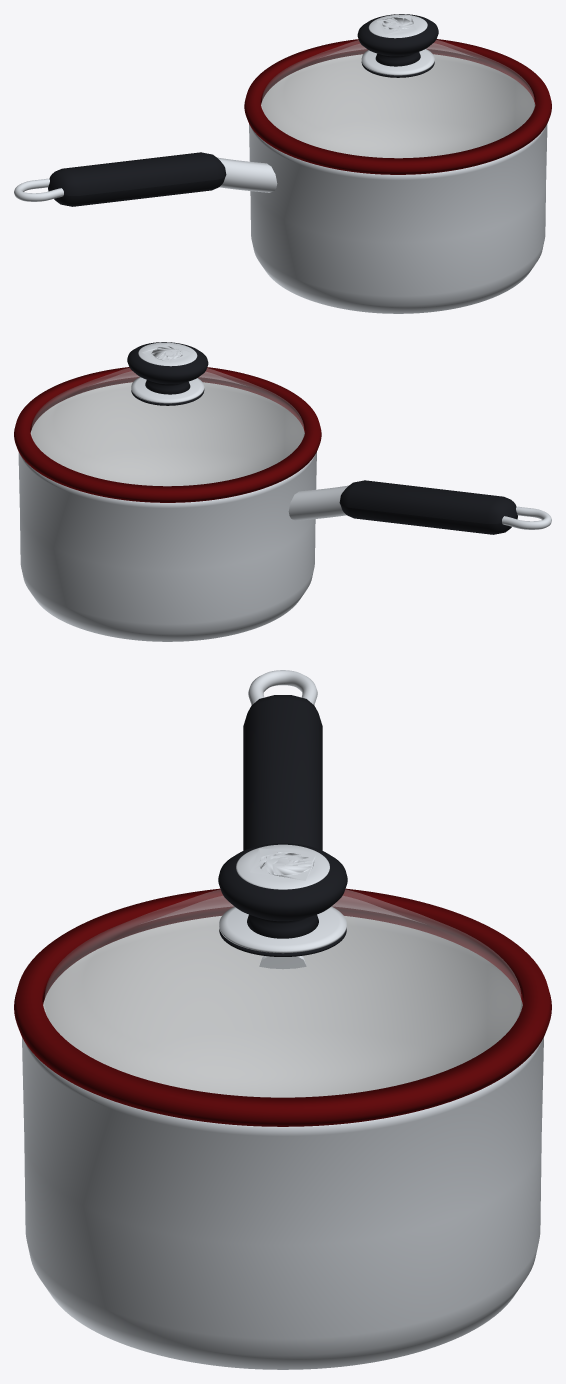
The model's file is olla-er-3-cuartos.glb.
The picture shows the model from 3 angles, top to bottom: view 1: azimuth 30°, elevation 25°; view 2: azimuth 150°, elevation 25°; view 3: azimuth 270°, elevation 25°; orthographic projection. The views are drawn at different scales.
Visible parts, largest first — view 1: Cuerpo con interior, Cristal de tapa, Aro rojo de la tapa, Mango largo negro, NOVEL · Pomo cerrado redondeado, Cuello de mango, NOVEL · Base cromada del pomo, Argolla metálica del mango, NOVEL · Placa superior del pomo, NOVEL · Emblema original en relieve bajo; view 2: Cuerpo con interior, Cristal de tapa, Aro rojo de la tapa, Mango largo negro, NOVEL · Pomo cerrado redondeado, Cuello de mango, NOVEL · Base cromada del pomo, Argolla metálica del mango, NOVEL · Placa superior del pomo, NOVEL · Emblema original en relieve bajo; view 3: Cuerpo con interior, Cristal de tapa, Aro rojo de la tapa, Mango largo negro, NOVEL · Pomo cerrado redondeado, NOVEL · Base cromada del pomo, NOVEL · Placa superior del pomo, NOVEL · Emblema original en relieve bajo, Argolla metálica del mango.
Part boxes in pixels (box(x1,y1,x2,y2)): Cuerpo con interior: box(249, 54, 547, 313); Cristal de tapa: box(262, 40, 534, 157); Aro rojo de la tapa: box(244, 39, 551, 174); Mango largo negro: box(48, 152, 226, 206); NOVEL · Pomo cerrado redondeado: box(357, 14, 438, 66); Cuello de mango: box(217, 157, 277, 192); NOVEL · Base cromada del pomo: box(361, 49, 434, 75); Argolla metálica del mango: box(14, 178, 63, 201); NOVEL · Placa superior del pomo: box(368, 14, 427, 38); NOVEL · Emblema original en relieve bajo: box(377, 15, 416, 34); Cuerpo con interior: box(18, 382, 316, 641); Cristal de tapa: box(31, 368, 303, 485); Aro rojo de la tapa: box(14, 367, 321, 502); Mango largo negro: box(339, 480, 517, 534); NOVEL · Pomo cerrado redondeado: box(127, 342, 208, 394); Cuello de mango: box(288, 485, 348, 520); NOVEL · Base cromada del pomo: box(131, 377, 204, 403); Argolla metálica del mango: box(502, 506, 551, 529); NOVEL · Placa superior del pomo: box(138, 342, 197, 366); NOVEL · Emblema original en relieve bajo: box(142, 344, 193, 362); Cuerpo con interior: box(22, 916, 543, 1369); Cristal de tapa: box(45, 889, 520, 1097); Aro rojo de la tapa: box(14, 888, 551, 1126); Mango largo negro: box(243, 695, 322, 850); NOVEL · Pomo cerrado redondeado: box(218, 843, 347, 938); NOVEL · Base cromada del pomo: box(219, 906, 346, 953); NOVEL · Placa superior del pomo: box(236, 844, 329, 889); NOVEL · Emblema original en relieve bajo: box(250, 848, 315, 880); Argolla metálica del mango: box(248, 670, 317, 704).
Size of the model in its own units: 0.408 by 0.1782 by 0.211.
